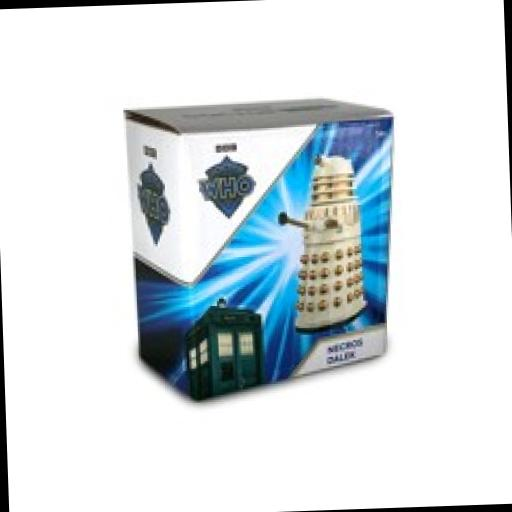dalek: (268, 152, 371, 330)
